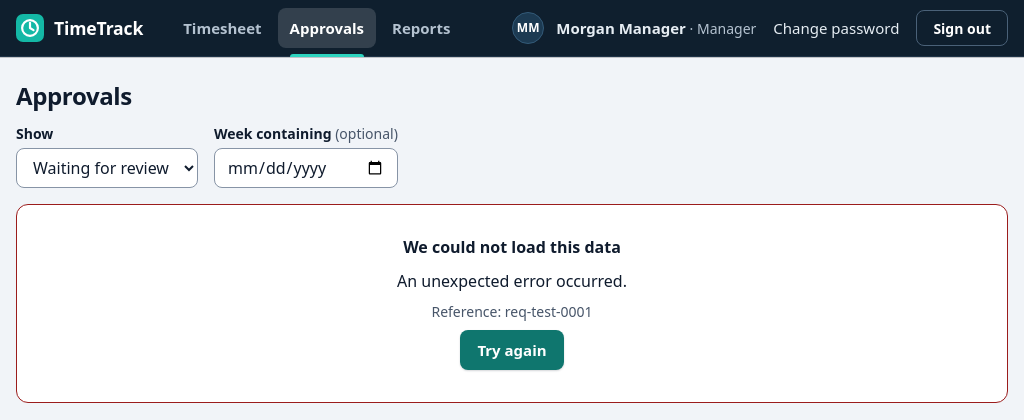
Test: approvals list › shows an error with a retry that recovers
Expected: the message shows "An unexpected error occurred.", x1=397 y1=270 x2=627 y2=292
Click the button "Try again" at x=512, y=350, box x1=460 y1=330 x2=564 y2=370
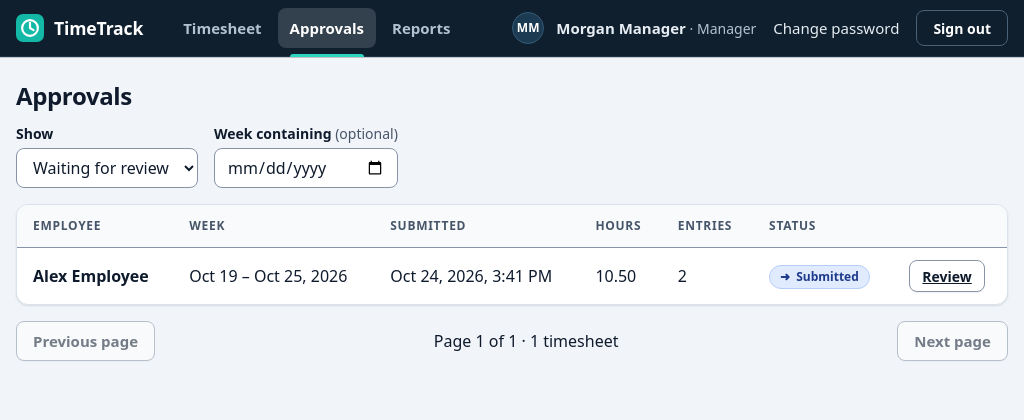
Expected: the number of rows with test id "approval-row" is 1, x1=17 y1=248 x2=1007 y2=304
